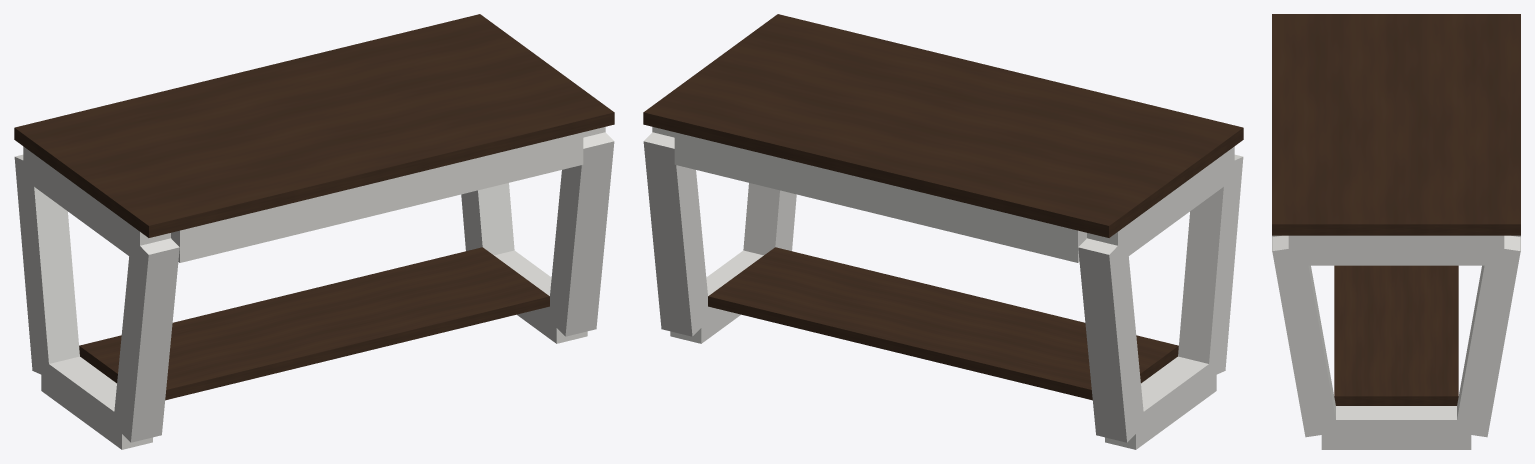
The model's file is mesa-living-nord-estante-ebano-blanco.glb.
3 renders of one model, left to right at view 1: azimuth 30°, elevation 25°; view 2: azimuth 150°, elevation 25°; view 3: azimuth 270°, elevation 25°, orthographic. The views are drawn at different scales.
Visible parts, largest first — view 1: Tapa de madera maciza 120 x 60 x 3 cm, Pata inclinada hacia adentro, perfil 80 x 80 mm (×4), Estante inferior de madera (proporción aproximada), Larguero longitudinal superior de hierro 80 x 80 mm, Travesaño inferior del trapecio, ancho exterior 44 cm (×2), Travesaño superior del trapecio, ancho exterior 60 cm; view 2: Tapa de madera maciza 120 x 60 x 3 cm, Pata inclinada hacia adentro, perfil 80 x 80 mm (×4), Estante inferior de madera (proporción aproximada), Larguero longitudinal superior de hierro 80 x 80 mm, Travesaño inferior del trapecio, ancho exterior 44 cm (×2), Travesaño superior del trapecio, ancho exterior 60 cm; view 3: Tapa de madera maciza 120 x 60 x 3 cm, Estante inferior de madera (proporción aproximada), Pata inclinada hacia adentro, perfil 80 x 80 mm (×2), Travesaño superior del trapecio, ancho exterior 60 cm, Travesaño inferior del trapecio, ancho exterior 44 cm.
Boxes of the visible parts, x1,y1,x2,y2 form: Tapa de madera maciza 120 x 60 x 3 cm: [14, 14, 614, 237]; Pata inclinada hacia adentro, perfil 80 x 80 mm (×4): [14, 132, 614, 442]; Estante inferior de madera (proporción aproximada): [79, 247, 549, 400]; Larguero longitudinal superior de hierro 80 x 80 mm: [171, 132, 583, 262]; Travesaño inferior del trapecio, ancho exterior 44 cm (×2): [41, 250, 587, 449]; Travesaño superior del trapecio, ancho exterior 60 cm: [23, 146, 170, 263]; Tapa de madera maciza 120 x 60 x 3 cm: [643, 14, 1243, 237]; Pata inclinada hacia adentro, perfil 80 x 80 mm (×4): [643, 132, 1243, 442]; Estante inferior de madera (proporción aproximada): [708, 247, 1178, 400]; Larguero longitudinal superior de hierro 80 x 80 mm: [674, 132, 1086, 262]; Travesaño inferior del trapecio, ancho exterior 44 cm (×2): [670, 250, 1216, 449]; Travesaño superior del trapecio, ancho exterior 60 cm: [1087, 146, 1234, 263]; Tapa de madera maciza 120 x 60 x 3 cm: [1272, 14, 1520, 235]; Estante inferior de madera (proporción aproximada): [1334, 265, 1458, 405]; Pata inclinada hacia adentro, perfil 80 x 80 mm (×2): [1272, 235, 1520, 437]; Travesaño superior del trapecio, ancho exterior 60 cm: [1288, 235, 1504, 265]; Travesaño inferior del trapecio, ancho exterior 44 cm: [1321, 406, 1471, 449].
Bounding box in the file's own units: 1.2 × 0.6 × 0.6.
Materials: 2 (1 with a texture image).
